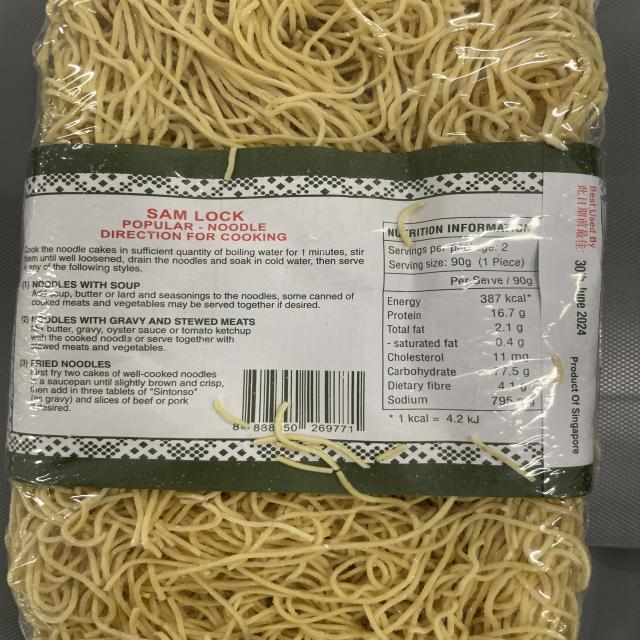object_name: (52, 4, 569, 640)
